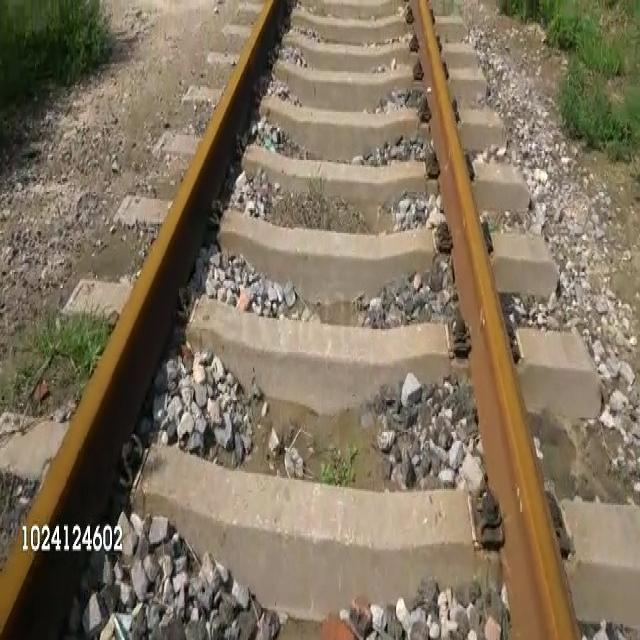Plant: (496, 0, 639, 164), (0, 0, 106, 143), (35, 311, 110, 380), (313, 448, 359, 486)
